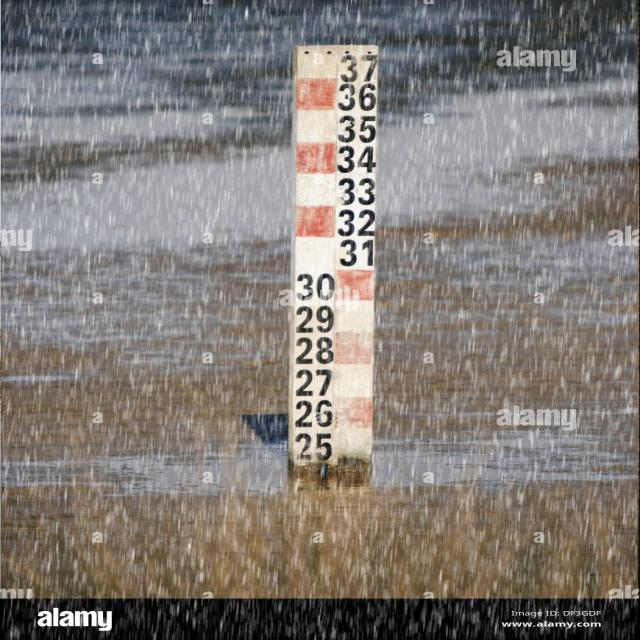ruler: (272, 40, 392, 490)
value: (335, 143, 379, 175), (294, 302, 335, 335), (293, 399, 336, 430), (336, 176, 377, 207), (338, 53, 379, 84), (336, 82, 378, 112), (292, 432, 334, 462), (336, 115, 379, 144), (337, 208, 377, 238), (295, 336, 335, 366), (296, 271, 336, 301), (295, 368, 335, 396), (338, 239, 377, 267)
